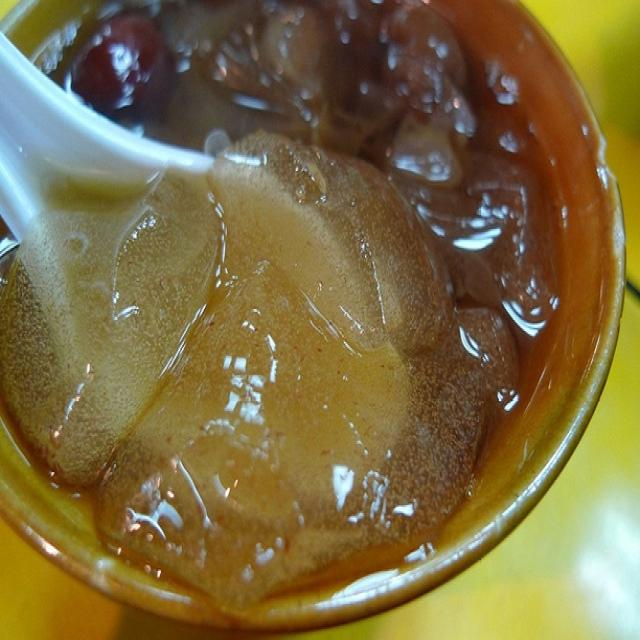蛋糕甜品: (9, 16, 600, 604)
